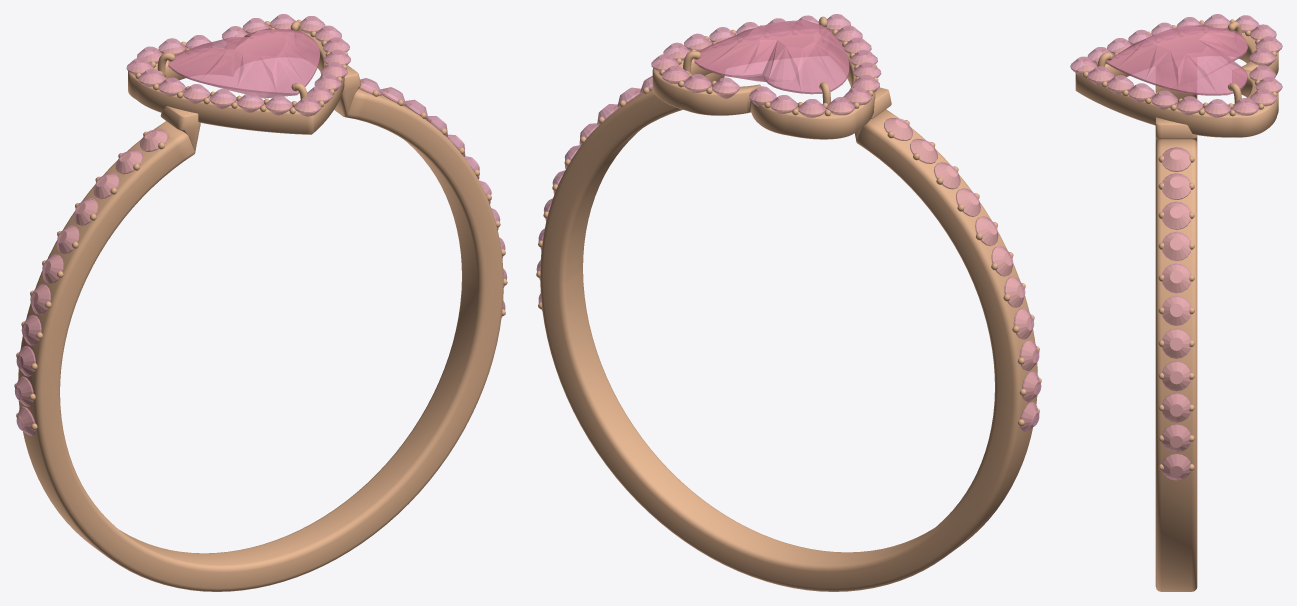
The model's file is J003-display-v06.glb.
3 renders of one model, left to right at view 1: azimuth 30°, elevation 25°; view 2: azimuth 150°, elevation 25°; view 3: azimuth 270°, elevation 25°, orthographic. The views are drawn at different scales.
Visible parts, largest first — view 1: J003_Metal, J003_AccentStones, J003_MainStone; view 2: J003_Metal, J003_AccentStones, J003_MainStone; view 3: J003_Metal, J003_AccentStones, J003_MainStone.
Boxes of the visible parts, left/top/right/bottom form: J003_Metal: left=14, top=19, right=507, bottom=591; J003_AccentStones: left=15, top=14, right=507, bottom=435; J003_MainStone: left=168, top=28, right=319, bottom=98; J003_Metal: left=536, top=16, right=1041, bottom=591; J003_AccentStones: left=536, top=14, right=1041, bottom=432; J003_MainStone: left=694, top=20, right=849, bottom=94; J003_Metal: left=1075, top=19, right=1278, bottom=591; J003_AccentStones: left=1070, top=14, right=1282, bottom=480; J003_MainStone: left=1106, top=25, right=1247, bottom=95.
Bounding box in the file's own units: 0.0185 × 0.0195 × 0.00711.
